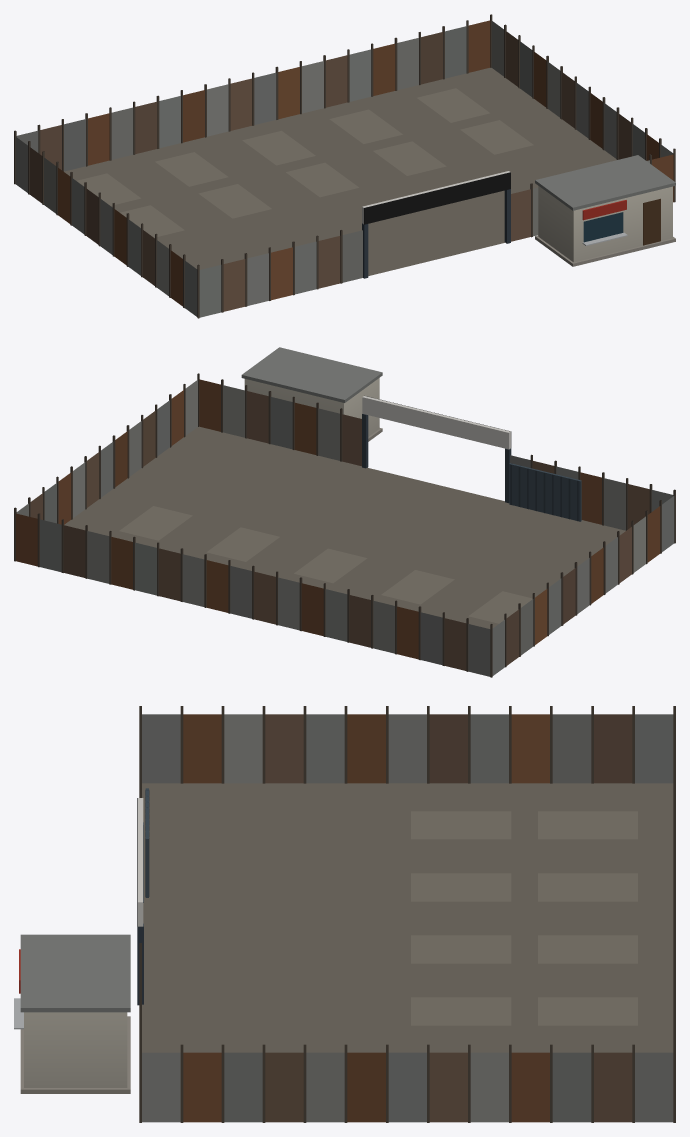
The model's file is ns_impound_lod1.glb.
The picture shows the model from 3 angles, top to bottom: view 1: azimuth 30°, elevation 25°; view 2: azimuth 150°, elevation 25°; view 3: azimuth 270°, elevation 25°; orthographic projection. The views are drawn at different scales.
Parts seen in each view (by area): view 1: ns_impound_lod1; view 2: ns_impound_lod1; view 3: ns_impound_lod1.
Part boxes in pixels (x1,y1,x2,y2): ns_impound_lod1: (14, 14, 675, 318); ns_impound_lod1: (14, 347, 675, 677); ns_impound_lod1: (14, 706, 675, 1122).
Bounding box in the file's own units: 24.08 × 3.4 × 19.84.
